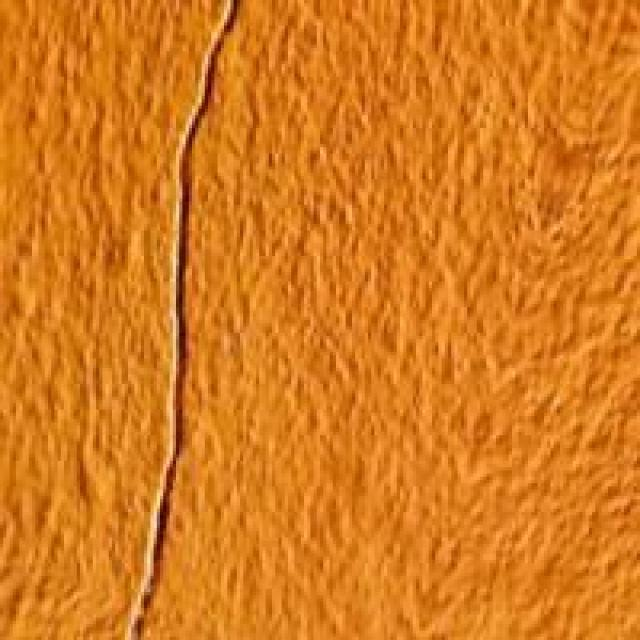Crack: (128, 6, 285, 637)
